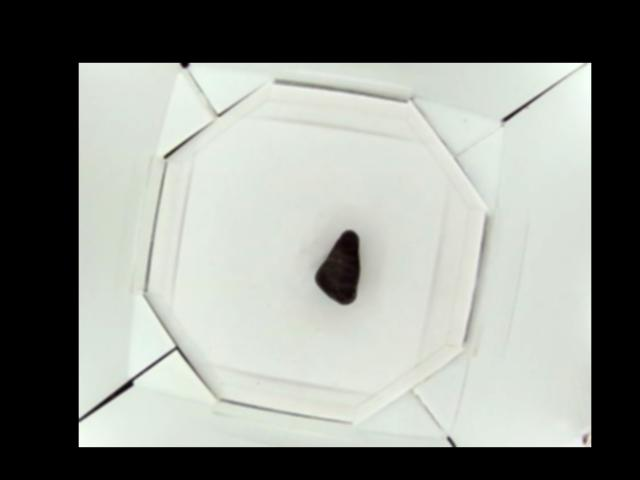Pebble: (315, 229, 359, 306)
